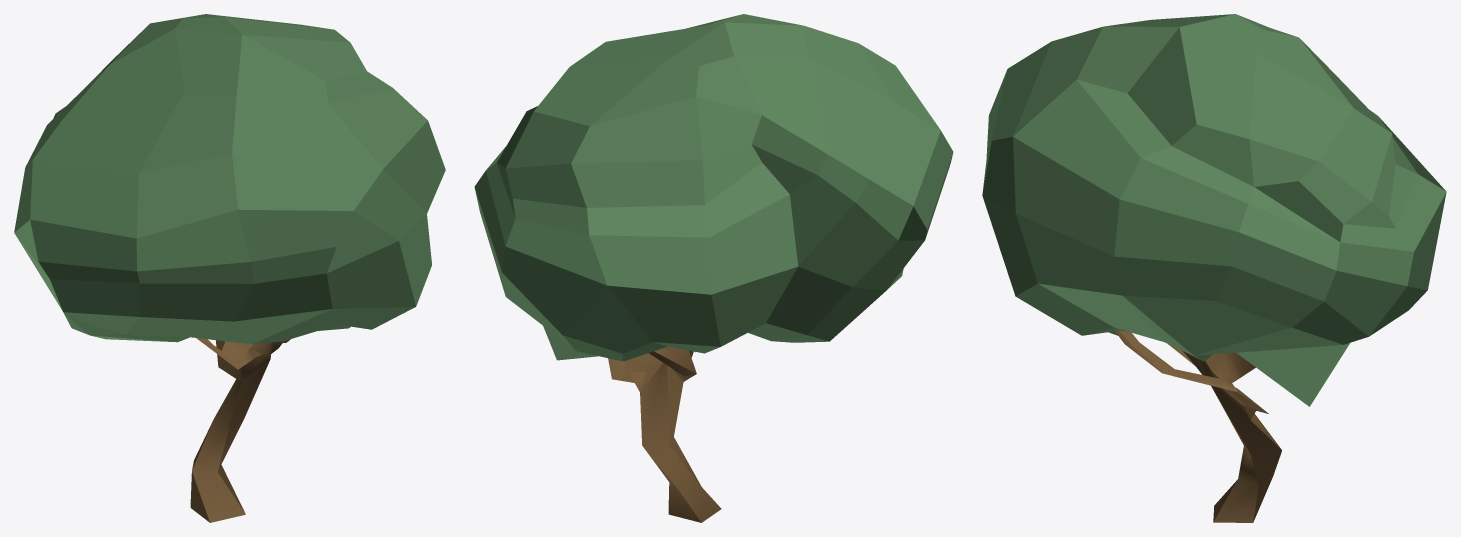
Rendered from Tree_01.fbx.
3 renders of one model, left to right at view 1: azimuth 30°, elevation 25°; view 2: azimuth 150°, elevation 25°; view 3: azimuth 270°, elevation 25°, orthographic. The views are drawn at different scales.
Visible parts, largest first — view 1: Tree_01; view 2: Tree_01; view 3: Tree_01.
Part boxes in pixels (box(x1,y1,x2,y2)): Tree_01: box(14, 14, 445, 522); Tree_01: box(474, 14, 953, 522); Tree_01: box(982, 14, 1446, 522).
Size of the model in its own units: 26.03 by 31.26 by 27.09.
